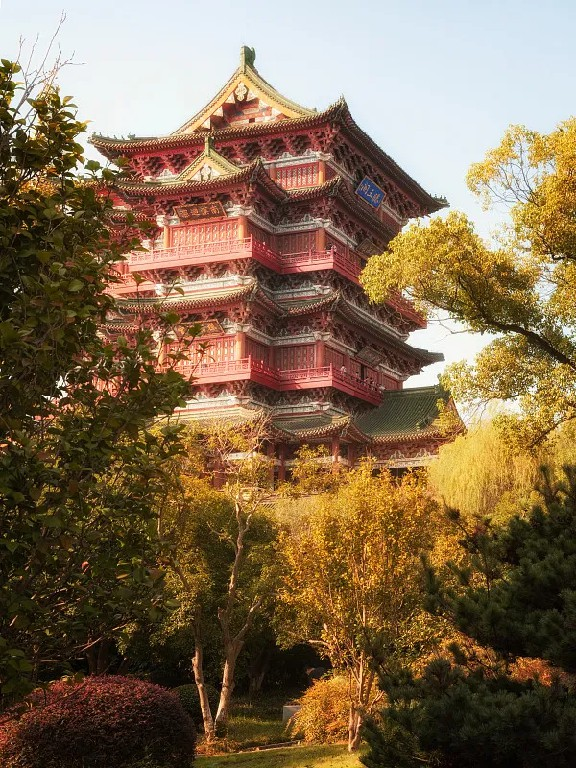Teng: (89, 44, 468, 435)
